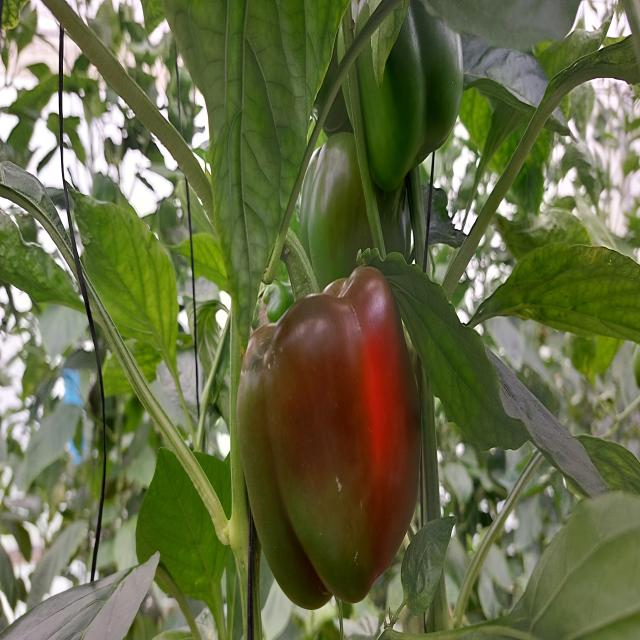BrownishRed--Can-be-Harvested: (231, 302, 447, 613)
